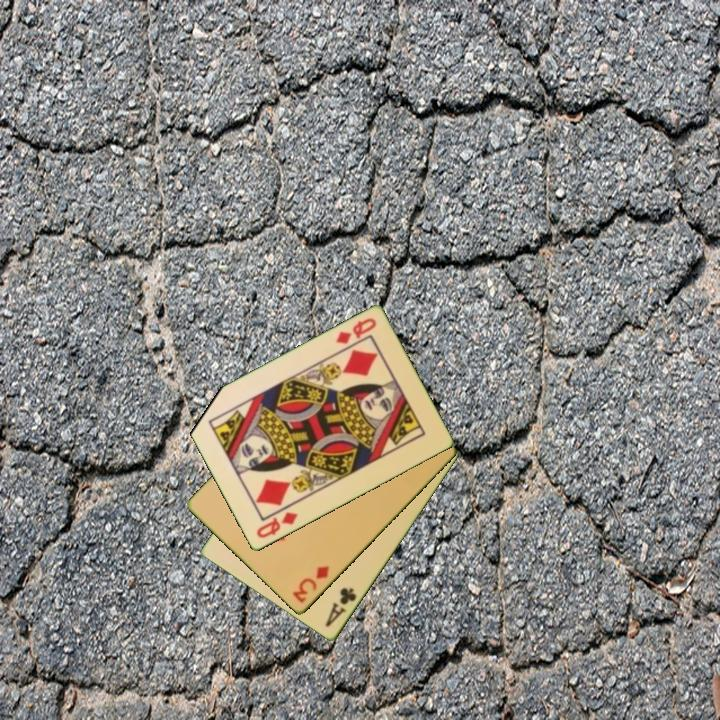3d: (289, 562, 332, 606)
Ac: (322, 584, 359, 630)
Qd: (253, 509, 300, 542), (332, 315, 379, 348)
